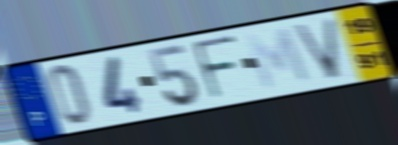0: (47, 62, 97, 128)
4: (101, 53, 148, 118)
5: (145, 42, 201, 109)
F: (189, 33, 240, 102)
M: (241, 24, 315, 93)
V: (289, 16, 343, 82)
